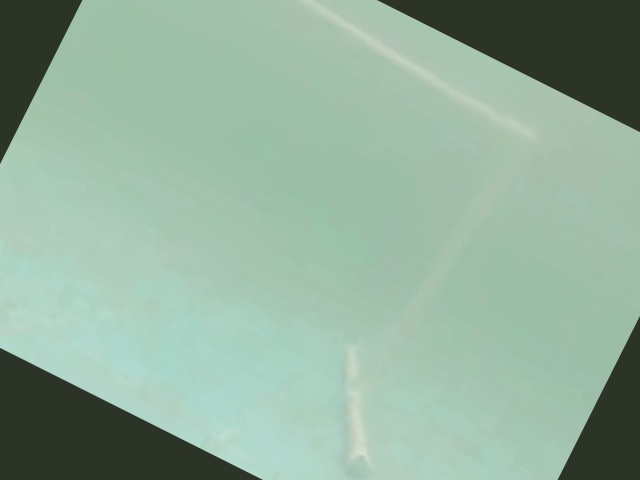gate: (245, 5, 551, 480)
